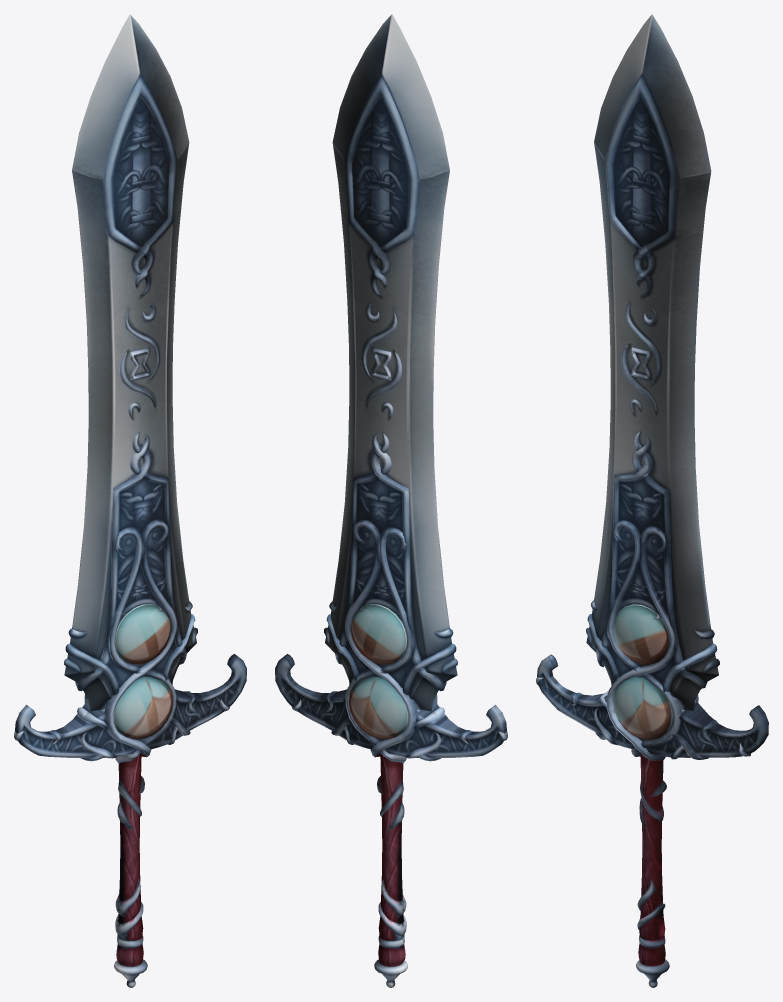
Rendered from sm_sword_10.gltf.
3 renders of one model, left to right at view 1: azimuth 30°, elevation 25°; view 2: azimuth 150°, elevation 25°; view 3: azimuth 330°, elevation 25°, orthographic.
Visible parts, largest first — view 1: SM_Sword_10; view 2: SM_Sword_10; view 3: SM_Sword_10.
Boxes of the visible parts, x1,y1,x2,y2 form: SM_Sword_10: [14, 14, 246, 987]; SM_Sword_10: [275, 14, 507, 987]; SM_Sword_10: [536, 14, 768, 987].
Size of the model in its own units: 0.3727 by 1.5 by 0.0936.
Materials: 1 (1 with a texture image).
